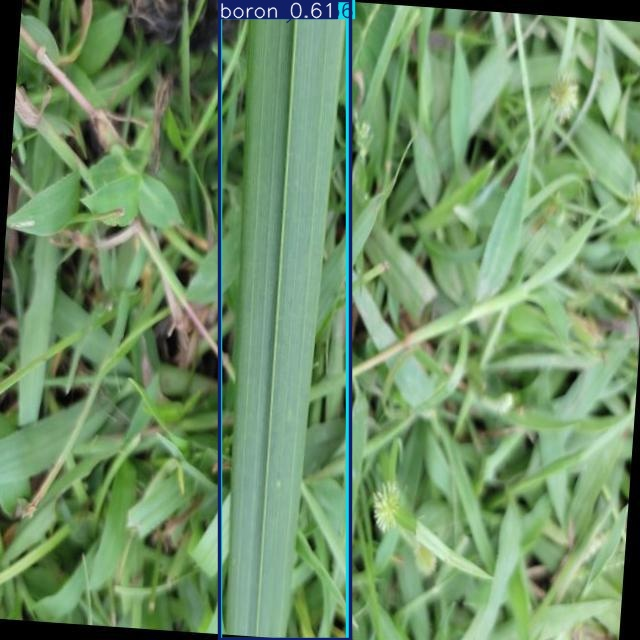Healthy: (220, 1, 348, 639)
nitrogen: (220, 0, 351, 639)
